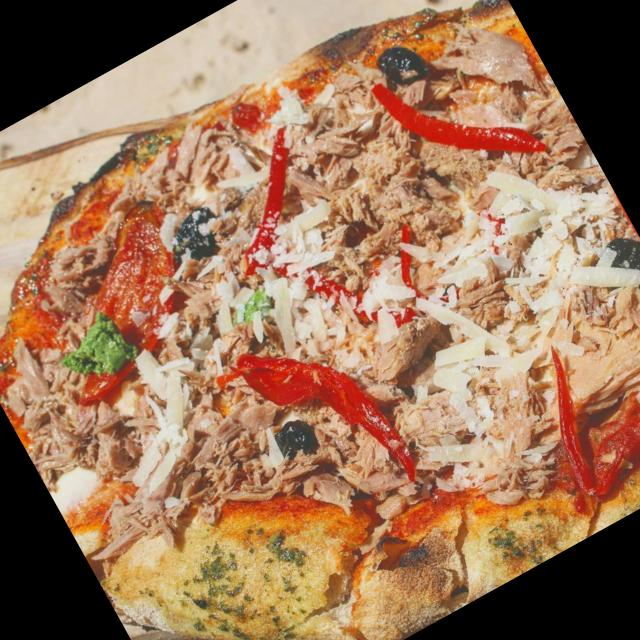black_olives: (153, 194, 238, 274), (589, 227, 640, 313), (372, 34, 432, 92), (262, 411, 320, 470)
peppers: (5, 194, 228, 413), (237, 354, 417, 477), (545, 346, 640, 505), (370, 86, 544, 152), (247, 131, 287, 275)
pizza: (0, 0, 640, 640)
